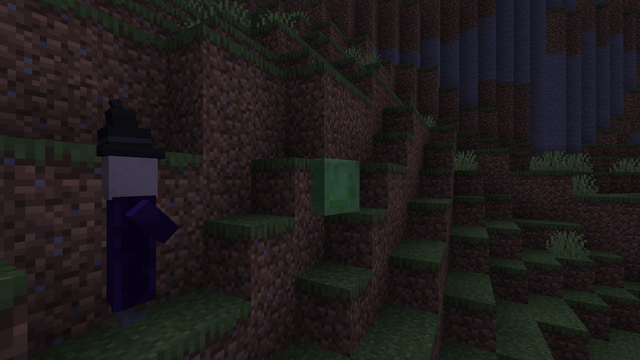slimes: (298, 155, 357, 215)
sorcieres: (90, 147, 167, 336)
